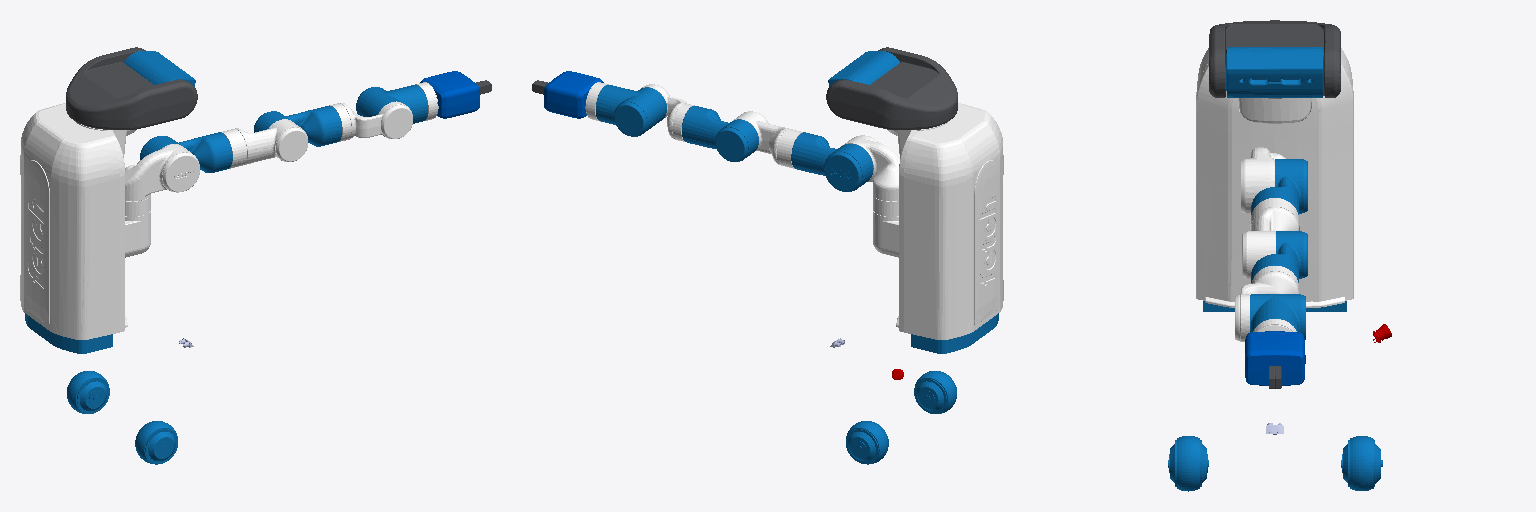
--- Render facts (derived) ---
3 views of the same robot in one strip: view 1: azimuth 30°, elevation 25°; view 2: azimuth 150°, elevation 25°; view 3: azimuth 270°, elevation 25° (orthographic).
Model fetch with 26 links and 25 joints (9 revolute, 2 continuous, 3 prismatic, 11 fixed), rooted at base_link, posed all joints at 0.
Links seen in each view (by area): view 1: torso_lift_link, head_pan_link, shoulder_pan_link, upperarm_roll_link, forearm_roll_link, elbow_flex_link, gripper_link, shoulder_lift_link, wrist_flex_link, r_wheel_link, l_wheel_link, head_tilt_link (+1 smaller); view 2: torso_lift_link, head_pan_link, shoulder_lift_link, elbow_flex_link, wrist_flex_link, shoulder_pan_link, gripper_link, upperarm_roll_link, l_wheel_link, r_wheel_link, head_tilt_link, torso_fixed_link (+1 smaller); view 3: torso_lift_link, head_tilt_link, head_pan_link, gripper_link, upperarm_roll_link, forearm_roll_link, l_wheel_link, r_wheel_link, shoulder_lift_link, wrist_flex_link, elbow_flex_link, shoulder_pan_link.
Link boxes in pixels (bbox=[...]): torso_lift_link: bbox=[20, 103, 150, 339]; head_pan_link: bbox=[66, 47, 197, 129]; shoulder_pan_link: bbox=[125, 144, 199, 216]; upperarm_roll_link: bbox=[221, 119, 307, 168]; forearm_roll_link: bbox=[329, 101, 412, 141]; elbow_flex_link: bbox=[254, 106, 341, 146]; gripper_link: bbox=[420, 71, 479, 118]; shoulder_lift_link: bbox=[140, 132, 232, 172]; wrist_flex_link: bbox=[356, 85, 427, 123]; r_wheel_link: bbox=[135, 421, 177, 464]; l_wheel_link: bbox=[67, 371, 109, 413]; head_tilt_link: bbox=[124, 51, 195, 86]; torso_lift_link: bbox=[873, 103, 1003, 339]; head_pan_link: bbox=[826, 47, 957, 129]; shoulder_lift_link: bbox=[791, 132, 873, 191]; elbow_flex_link: bbox=[682, 106, 758, 161]; wrist_flex_link: bbox=[596, 85, 666, 136]; shoulder_pan_link: bbox=[842, 135, 899, 216]; gripper_link: bbox=[544, 71, 603, 118]; upperarm_roll_link: bbox=[733, 111, 802, 168]; l_wheel_link: bbox=[846, 421, 888, 464]; r_wheel_link: bbox=[914, 371, 956, 413]; head_tilt_link: bbox=[828, 51, 899, 86]; torso_fixed_link: bbox=[911, 313, 998, 353]; torso_lift_link: bbox=[1196, 48, 1353, 307]; head_tilt_link: bbox=[1226, 47, 1323, 97]; head_pan_link: bbox=[1209, 20, 1340, 97]; gripper_link: bbox=[1245, 331, 1305, 385]; upperarm_roll_link: bbox=[1242, 198, 1298, 278]; forearm_roll_link: bbox=[1235, 266, 1298, 341]; l_wheel_link: bbox=[1341, 436, 1382, 490]; r_wheel_link: bbox=[1168, 436, 1208, 491]; shoulder_lift_link: bbox=[1251, 159, 1307, 214]; wrist_flex_link: bbox=[1250, 294, 1305, 339]; elbow_flex_link: bbox=[1251, 231, 1307, 282]; shoulder_pan_link: bbox=[1241, 147, 1285, 213].
Bounding box of the posed robot: 1.43 × 0.4855 × 1.1 m (x, y, z).
Meshes: 19 distinct files referenced, 18 mesh visuals loaded (18 OBJ); not drawn: 2 (reference not matched to a file when rendering).

robot.urdf — fetch:
<robot name="fetch">
  <link name="base_link">
    <inertial>
      <origin rpy="0 0 0" xyz="-0.0036 0.0 0.0014" />
      <mass value="70.1294" />
      <inertia ixx="1.225" ixy="0.0099" ixz="0.0062" iyy="1.2853" iyz="-0.0034" izz="0.987" />
    </inertial>
    <visual>
      <origin rpy="0 0 0" xyz="0 0 0" />
      <geometry>
        <mesh filename="meshes/base_link.obj" />
      </geometry>
      <material name="">
        <color rgba="0.356 0.361 0.376 1" />
      </material>
    </visual>
    <collision>
      <origin rpy="0 0 0" xyz="0 0 0.03" />
      <geometry>
        <mesh filename="meshes/base_link_collision.STL" />
      </geometry>
    </collision>

    <contact>
      <lateral_friction value="0.0"/>
      <rolling_friction value="0.0"/>
       <stiffness value="300000"/>
      <damping value="30000"/>
    </contact>
  </link>

  <link name="caster_wheel_link">
    <inertial>
      <origin rpy="0 0 0" xyz="-0.0036 0.0 0.0014" />
      <mass value="0" />
      <inertia ixx="0" ixy="0" ixz="0" iyy="0" iyz="0" izz="0" />
    </inertial>
    <visual>
      <origin rpy="0 0 0" xyz="0 0 0" />
      <geometry>
        <mesh filename="meshes/base_link.obj" />
      </geometry>
      <material name="">
        <color rgba="0.356 0.361 0.376 1" />
      </material>
    </visual>
    <collision>
      <origin rpy="0 0 0" xyz="0 0 0" />
      <geometry>
        <mesh filename="meshes/base_link_collision.STL" scale="0.99 0.99 1"/>
      </geometry>
    </collision>
    <contact>
      <lateral_friction value="0.0"/>
      <rolling_friction value="0.0"/>
       <stiffness value="300000"/>
      <damping value="30000"/>
    </contact>
  </link>

   <joint name="caster_wheel_joint" type="fixed">
    <origin rpy="0 0 0" xyz="0 0 0" />
    <parent link="base_link" />
    <child link="caster_wheel_link" />
   </joint>

  <link name="r_wheel_link">
    <inertial>
      <origin rpy="0 0 0" xyz="0 0 0" />
      <mass value="4.3542" />
      <inertia ixx="0.0045" ixy="0" ixz="0" iyy="0.005" iyz="0" izz="0.0045" />
    </inertial>
    <visual>
      <origin rpy="0 0 0" xyz="0 0 0" />
      <geometry>
        <mesh filename="meshes/r_wheel_link.obj" />
      </geometry>
      <material name="">
        <color rgba="0.086 0.506 0.767 1" />
      </material>
    </visual>
    <collision>
      <origin rpy="0 0 0" xyz="0 0 0" />
      <geometry>
        <mesh filename="meshes/r_wheel_link_collision.STL" />
      </geometry>
    </collision>
     <contact>
      <lateral_friction value="1.0"/>
      <rolling_friction value="0.0"/>
       <stiffness value="300000"/>
      <damping value="30000"/>
    </contact>
  </link>
  <joint name="r_wheel_joint" type="continuous">
    <origin rpy="-6.123E-17 0 0" xyz="0.0012914 -0.18738 0.055325" />
    <parent link="base_link" />
    <child link="r_wheel_link" />
    <axis xyz="0 1 0" />
  <limit effort="8.85" velocity="17.4" /></joint>
  <link name="l_wheel_link">
    <inertial>
      <origin rpy="0 0 0" xyz="0 0 0" />
      <mass value="4.3542" />
      <inertia ixx="0.0045" ixy="0" ixz="0" iyy="0.005" iyz="0" izz="0.0045" />
    </inertial>
    <visual>
      <origin rpy="0 0 0" xyz="0 0 0" />
      <geometry>
        <mesh filename="meshes/l_wheel_link.obj" />
      </geometry>
      <material name="">
        <color rgba="0.086 0.506 0.767 1" />
      </material>
    </visual>
    <collision>
      <origin rpy="0 0 0" xyz="0 0 0" />
      <geometry>
        <mesh filename="meshes/l_wheel_link_collision.STL" />
      </geometry>
    </collision>
     <contact>
      <lateral_friction value="1.0"/>
      <rolling_friction value="0.0"/>
       <stiffness value="300000"/>
      <damping value="30000"/>
    </contact>

  </link>
  <joint name="l_wheel_joint" type="continuous">
    <origin rpy="-6.123E-17 0 0" xyz="0.0012914 0.18738 0.055325" />
    <parent link="base_link" />
    <child link="l_wheel_link" />
    <axis xyz="0 1 0" />
  <limit effort="8.85" velocity="17.4" /></joint>
  <link name="torso_lift_link">
    <inertial>
      <origin rpy="0 0 0" xyz="-0.0013 -0.0009 0.2935" />
      <mass value="10.7796" />
      <inertia ixx="0.3354" ixy="0.0" ixz="-0.0162" iyy="0.3354" iyz="-0.0006" izz="0.0954" />
    </inertial>
    <visual>
      <origin rpy="0 0 0" xyz="0 0 0" />
      <geometry>
        <mesh filename="meshes/torso_lift_link.obj" />
      </geometry>
      <material name="">
        <color rgba="1 1 1 1" />
      </material>
    </visual>
    <collision>
      <origin rpy="0 0 0" xyz="0 0 0" />
      <geometry>
        <mesh filename="meshes/torso_lift_link_collision.STL" />
      </geometry>
    </collision>
  </link>
  <joint name="torso_lift_joint" type="prismatic">
    <origin rpy="-6.123E-17 0 0" xyz="-0.086875 0 0.37743" />
    <parent link="base_link" />
    <child link="torso_lift_link" />
    <axis xyz="0 0 1" />
    <limit effort="450.0" lower="0" upper="0.38615" velocity="0.1" />
  <dynamics damping="100.0" />
  </joint>
  
  <link name="head_pan_link">
    <inertial>
      <origin rpy="0 0 0" xyz="0.0321 0.0161 0.0390" />
      <mass value="2.2556" />
      <inertia ixx="0.0129" ixy="0.0002" ixz="0.0007" iyy="0.0095" iyz="-0.0" izz="0.0184" />
    </inertial>
    <visual>
      <origin rpy="0 0 0" xyz="0 0 0" />
      <geometry>
        <mesh filename="meshes/head_pan_link.obj" />
      </geometry>
      <material name="">
        <color rgba="0.356 0.361 0.376 1" />
      </material>
    </visual>
    <collision>
      <origin rpy="0 0 0" xyz="0 0 0" />
      <geometry>
        <mesh filename="meshes/head_pan_link_collision.STL" />
      </geometry>
    </collision>
  </link>
  <joint name="head_pan_joint" type="revolute">
    <origin rpy="0 0 0" xyz="0.053125 0 0.603001417713939" />
    <parent link="torso_lift_link" />
    <child link="head_pan_link" />
    <axis xyz="0 0 1" />
  <limit effort="0.32" lower="-1.57" upper="1.57" velocity="1.57" /></joint>
  <link name="head_tilt_link">
    <inertial>
      <origin rpy="0 0 0" xyz="0.0081 0.0025 0.0113" />
      <mass value="0.9087" />
      <inertia ixx="0.0061" ixy="-0.0" ixz="0.0002" iyy="0.0014" iyz="-0.0001" izz="0.0061" />
    </inertial>
    <visual>
      <origin rpy="0 0 0" xyz="0 0 0" />
      <geometry>
        <mesh filename="meshes/head_tilt_link.obj" />
      </geometry>
      <material name="">
        <color rgba="0.086 0.506 0.767 1" />
      </material>
    </visual>
    <collision>
      <origin rpy="0 0 0" xyz="0 0 0" />
      <geometry>
        <mesh filename="meshes/head_tilt_link_collision.STL" />
      </geometry>
    </collision>
  </link>
  <joint name="head_tilt_joint" type="revolute">
    <origin rpy="0 0.2617993877991494 0" xyz="0.14253 0 0.057999" />
    <parent link="head_pan_link" />
    <child link="head_tilt_link" />
    <axis xyz="0 1 0" />
    <limit effort="0.68" lower="-0.76" upper="1.45" velocity="1.57" />
  </joint>
  <link name="shoulder_pan_link">
    <inertial>
      <origin rpy="0 0 0" xyz="0.0927 -0.0056 0.0564" />
      <mass value="2.5587" />
      <inertia ixx="0.0043" ixy="-0.0001" ixz="0.001" iyy="0.0087" iyz="-0.0001" izz="0.0087" />
    </inertial>
    <visual>
      <origin rpy="0 0 0" xyz="0 0 0" />
      <geometry>
        <mesh filename="meshes/shoulder_pan_link.obj" />
      </geometry>
      <material name="">
        <color rgba="1 1 1 1" />
      </material>
    </visual>
    <collision>
      <origin rpy="0 0 0" xyz="0 0 0" />
      <geometry>
        <mesh filename="meshes/shoulder_pan_link_collision.STL" />
      </geometry>
    </collision>
  </link>
  <joint name="shoulder_pan_joint" type="revolute">
    <origin rpy="0 0 0" xyz="0.119525 0 0.34858" />
    <parent link="torso_lift_link" />
    <child link="shoulder_pan_link" />
    <axis xyz="0 0 1" />
    <dynamics damping="1.0" />
    <limit effort="33.82" lower="-1.6056" upper="1.6056" velocity="1.256" />
  </joint>
  <link name="shoulder_lift_link">
    <inertial>
      <origin rpy="0 0 0" xyz="0.1432 0.0072 -0.0001" />
      <mass value="2.6615" />
      <inertia ixx="0.0028" ixy="-0.0021" ixz="-0.0" iyy="0.0111" iyz="-0.0" izz="0.0112" />
    </inertial>
    <visual>
      <origin rpy="0 0 0" xyz="0 0 0" />
      <geometry>
        <mesh filename="meshes/shoulder_lift_link.obj" />
      </geometry>
      <material name="">
        <color rgba="0.086 0.506 0.767 1" />
      </material>
    </visual>
    <collision>
      <origin rpy="0 0 0" xyz="0 0 0" />
      <geometry>
        <mesh filename="meshes/shoulder_lift_link_collision.STL" />
      </geometry>
    </collision>
  </link>
  <joint name="shoulder_lift_joint" type="revolute">
    <origin rpy="0 0 0" xyz="0.117 0 0.0599999999999999" />
    <parent link="shoulder_pan_link" />
    <child link="shoulder_lift_link" />
    <axis xyz="0 1 0" />
    <dynamics damping="1.0" />
    <limit effort="131.76" lower="-1.221" upper="1.518" velocity="1.454" />
  </joint>
  <link name="upperarm_roll_link">
    <inertial>
      <origin rpy="0 0 0" xyz="0.1165 0.0014 0.0000" />
      <mass value="2.3311" />
      <inertia ixx="0.0019" ixy="-0.0001" ixz="0.0" iyy="0.0045" iyz="0.0" izz="0.0047" />
    </inertial>
    <visual>
      <origin rpy="0 0 0" xyz="0 0 0" />
      <geometry>
        <mesh filename="meshes/upperarm_roll_link.obj" />
      </geometry>
      <material name="">
        <color rgba="1 1 1 1" />
      </material>
    </visual>
    <collision>
      <origin rpy="0 0 0" xyz="0 0 0" />
      <geometry>
        <mesh filename="meshes/upperarm_roll_link_collision.STL" />
      </geometry>
    </collision>
  </link>
  <joint name="upperarm_roll_joint" type="revolute">
    <origin rpy="0 0 0" xyz="0.219 0 0" />
    <parent link="shoulder_lift_link" />
    <child link="upperarm_roll_link" />
    <axis xyz="1 0 0" />
    <dynamics damping="5.0" />
    <limit effort="76.94" velocity="1.571" />
  </joint>
  <link name="elbow_flex_link">
    <inertial>
      <origin rpy="0 0 0" xyz="0.1279 0.0073 0.0000" />
      <mass value="2.1299" />
      <inertia ixx="0.0024" ixy="-0.0016" ixz="0.0" iyy="0.0082" iyz="-0.0" izz="0.0084" />
    </inertial>
    <visual>
      <origin rpy="0 0 0" xyz="0 0 0" />
      <geometry>
        <mesh filename="meshes/elbow_flex_link.obj" />
      </geometry>
      <material name="">
        <color rgba="0.086 0.506 0.767 1" />
      </material>
    </visual>
    <collision>
      <origin rpy="0 0 0" xyz="0 0 0" />
      <geometry>
        <mesh filename="meshes/elbow_flex_link_collision.STL" />
      </geometry>
    </collision>
  </link>
  <joint name="elbow_flex_joint" type="revolute">
    <origin rpy="0 0 0" xyz="0.133 0 0" />
    <parent link="upperarm_roll_link" />
    <child link="elbow_flex_link" />
    <axis xyz="0 1 0" />
    <dynamics damping="1.0" />
    <limit effort="66.18" lower="-2.251" upper="2.251" velocity="1.521" />
  </joint>
  <link name="forearm_roll_link">
    <inertial>
      <origin rpy="0 0 0" xyz="0.1097 -0.0266 0.0000" />
      <mass value="1.6563" />
      <inertia ixx="0.0016" ixy="-0.0003" ixz="0.0" iyy="0.003" iyz="-0.0" izz="0.0035" />
    </inertial>
    <visual>
      <origin rpy="0 0 0" xyz="0 0 0" />
      <geometry>
        <mesh filename="meshes/forearm_roll_link.obj" />
      </geometry>
      <material name="">
        <color rgba="1 1 1 1" />
      </material>
    </visual>
    <collision>
      <origin rpy="0 0 0" xyz="0 0 0" />
      <geometry>
        <mesh filename="meshes/forearm_roll_link_collision.STL" />
      </geometry>
    </collision>
  </link>
  <joint name="forearm_roll_joint" type="revolute">
    <origin rpy="0 0 0" xyz="0.197 0 0" />
    <parent link="elbow_flex_link" />
    <child link="forearm_roll_link" />
    <axis xyz="1 0 0" />
    <dynamics damping="5.0" />
    <limit effort="29.35" velocity="1.571" />
  </joint>
  <link name="wrist_flex_link">
    <inertial>
      <origin rpy="0 0 0" xyz="0.0882 0.0009 -0.0001" />
      <mass value="1.725" />
      <inertia ixx="0.0018" ixy="-0.0001" ixz="-0.0" iyy="0.0042" iyz="0.0" izz="0.0042" />
    </inertial>
    <visual>
      <origin rpy="0 0 0" xyz="0 0 0" />
      <geometry>
        <mesh filename="meshes/wrist_flex_link.obj" />
      </geometry>
      <material name="">
        <color rgba="0.086 0.506 0.767 1" />
      </material>
    </visual>
    <collision>
      <origin rpy="0 0 0" xyz="0 0 0" />
      <geometry>
        <mesh filename="meshes/wrist_flex_link_collision.STL" />
      </geometry>
    </collision>
  </link>
  <joint name="wrist_flex_joint" type="revolute">
    <origin rpy="0 0 0" xyz="0.1245 0 0" />
    <parent link="forearm_roll_link" />
    <child link="wrist_flex_link" />
    <axis xyz="0 1 0" />
    <dynamics damping="1.0" />
    <limit effort="25.7" lower="-2.16" upper="2.16" velocity="2.268" />
  </joint>
  <link name="wrist_roll_link">
    <inertial>
      <origin rpy="0 0 0" xyz="0.0095 0.0004 -0.0002" />
      <mass value="0.1354" />
      <inertia ixx="0.0001" ixy="0.0" ixz="0.0" iyy="0.0001" iyz="0.0" izz="0.0001" />
    </inertial>
    <visual>
      <origin rpy="0 0 0" xyz="0 0 0" />
      <geometry>
        <mesh filename="meshes/wrist_roll_link.obj" />
      </geometry>
      <material name="">
        <color rgba="1 1 1 1" />
      </material>
    </visual>
    <collision>
      <origin rpy="0 0 0" xyz="0 0 0" />
      <geometry>
        <mesh filename="meshes/wrist_roll_link_collision.STL" />
      </geometry>
    </collision>
  </link>
  <joint name="wrist_roll_joint" type="revolute">
    <origin rpy="0 0 0" xyz="0.1385 0 0" />
    <parent link="wrist_flex_link" />
    <child link="wrist_roll_link" />
    <axis xyz="1 0 0" />
    <limit effort="7.36" velocity="2.268" />
    <dynamics damping="5.0" />
  </joint>
  <link name="gripper_link">
    <inertial>
      <origin rpy="0 0 0" xyz="-0.0900 -0.0001 -0.0017" />
      <mass value="1.5175" />
      <inertia ixx="0.0013" ixy="-0.0" ixz="0.0" iyy="0.0019" iyz="-0.0" izz="0.0024" />
    </inertial>
    <visual>
      <origin rpy="0 0 0" xyz="0 0 0" />
      <geometry>
        <mesh filename="meshes/gripper_link.obj" />
      </geometry>
      <material name="">
        <color rgba="0 0.4 0.8 1" />
      </material>
    </visual>
    <collision>
      <origin rpy="0 0 0" xyz="0 0 0" />
      <geometry>
        <mesh filename="meshes/gripper_link.obj" />
      </geometry>
    </collision>
  </link>
  <joint name="gripper_axis" type="fixed">
    <origin rpy="0 0 0" xyz="0.16645 0 0" />
    <parent link="wrist_roll_link" />
    <child link="gripper_link" />
    <axis xyz="0 1 0" />
  </joint>
  <link name="r_gripper_finger_link">
    <inertial>
      <origin rpy="0 0 0" xyz="-0.01 0 0" />
      <mass value="0.0798" />
      <inertia ixx="0.002" ixy="0" ixz="0" iyy="0" iyz="0" izz="0" />
    </inertial>
    <visual>
      <origin rpy="0 0 0" xyz="0 0.101425 0" />
      <geometry>
        <mesh filename="meshes/r_gripper_finger_link.obj" />
      </geometry>
      <material name="">
        <color rgba="0.356 0.361 0.376 1" />
      </material>
    </visual>
    <collision>
      <origin rpy="0 0 0" xyz="0 0.101425 0" />
      <geometry>
        <mesh filename="meshes/r_gripper_finger_link.obj" />
      </geometry>
    </collision>
  </link>
  <joint name="r_gripper_finger_joint" type="prismatic">
    <origin rpy="0 0 0" xyz="0 0.015425 0" />
    <parent link="gripper_link" />
    <child link="r_gripper_finger_link" />
    <axis xyz="0 1 0" />
  <limit effort="60" lower="0.0" upper="0.05" velocity="0.05" /><dynamics damping="100.0" /></joint>
  <link name="l_gripper_finger_link">
    <inertial>
      <origin rpy="0 0 0" xyz="-0.01 0 0" />
      <mass value="0.0798" />
      <inertia ixx="0.002" ixy="0" ixz="0" iyy="0" iyz="0" izz="0" />
    </inertial>
    <visual>
      <origin rpy="0 0 0" xyz="0 -0.101425 0" />
      <geometry>
        <mesh filename="meshes/l_gripper_finger_link.obj" />
      </geometry>
      <material name="">
        <color rgba="0.356 0.361 0.376 1" />
      </material>
    </visual>
    <collision>
      <origin rpy="0 0 0" xyz="0 -0.101425 0" />
      <geometry>
        <mesh filename="meshes/l_gripper_finger_link.obj" />
      </geometry>
    </collision>
  </link>
  <joint name="l_gripper_finger_joint" type="prismatic">
    <origin rpy="0 0 0" xyz="0 -0.015425 0" />
    <parent link="gripper_link" />
    <child link="l_gripper_finger_link" />
    <axis xyz="0 -1 0" />
  <limit effort="60" lower="0.0" upper="0.05" velocity="0.05" /><dynamics damping="100.0" /></joint>
  <!--
  <link name="bellows_link">
    <inertial>
      <origin rpy="0 0 0" xyz="0.0191320000286228 -1.67219873481315E-16 -0.134861625443387" />
      <mass value="0.169374038216602" />
      <inertia ixx="0.00331159128762117" ixy="-8.9230964321455E-18" ixz="-5.38622201018293E-08" iyy="0.00174447292786627" iyz="-8.06964979976371E-17" izz="0.00169417568121457" />
    </inertial>
    <visual>
      <origin rpy="0 0 0" xyz="0 0 0" />
      <geometry>
        <mesh filename="meshes/bellows_link.obj" />
      </geometry>
      <material name="">
        <color rgba="0 0.4 0.8 1" />
      </material>
    </visual>
    <collision>
      <origin rpy="0 0 0" xyz="0 0 0" />
      <geometry>
        <mesh filename="meshes/bellows_link_collision.STL" />
      </geometry>
    </collision>
  </link>
  <joint name="bellows_joint" type="fixed">
    <origin rpy="0 0 0" xyz="0 0 0" />
    <parent link="torso_lift_link" />
    <child link="bellows_link" />
    <axis xyz="0 0 -1" />
  <limit effort="5.0" lower="0" upper="0.4" velocity="0.1" /></joint>
  <link name="bellows_link2">
    <inertial>
      <origin rpy="0 0 0" xyz="0.0191320000286228 -1.67219873481315E-16 -0.134861625443387" />
      <mass value="0.169374038216602" />
      <inertia ixx="0.00331159128762117" ixy="-8.9230964321455E-18" ixz="-5.38622201018293E-08" iyy="0.00174447292786627" iyz="-8.06964979976371E-17" izz="0.00169417568121457" />
    </inertial>
    <visual>
      <origin rpy="0 0 0" xyz="0 0 0" />
      <geometry>
        <mesh filename="meshes/bellows_link.obj" />
      </geometry>
      <material name="">
        <color rgba="0 0.4 0.8 1" />
      </material>
    </visual>
    <collision>
      <origin rpy="0 0 0" xyz="0 0 0" />
      <geometry>
        <mesh filename="meshes/bellows_link_collision.STL" />
      </geometry>
    </collision>
  </link>
  <joint name="bellows_joint2" type="fixed">
    <origin rpy="0 0 0" xyz="0 0 0" />
    <parent link="torso_lift_link" />
    <child link="bellows_link2" />
  </joint>
  -->
  <link name="estop_link">
    <inertial>
      <origin rpy="0 0 0" xyz="0.002434512737072 -0.00330608315239905 0.00665139196650039" />
      <mass value="0.00196130439134723" />
      <inertia ixx="3.02810026604417E-07" ixy="-1.5862023118056E-08" ixz="3.16561396557437E-08" iyy="2.93322917127605E-07" iyz="-4.28833522751273E-08" izz="2.28513272627183E-07" />
    </inertial>
    <visual>
      <origin rpy="0 0 0" xyz="0 0 0" />
      <geometry>
        <mesh filename="meshes/estop_link.obj" />
      </geometry>
      <material name="">
        <color rgba="0.8 0 0 1" />
      </material>
    </visual>
    <collision>
      <origin rpy="0 0 0" xyz="0 0 0" />
      <geometry>
        <mesh filename="meshes/estop_link.obj" />
      </geometry>
    </collision>
  </link>
  <joint name="estop_joint" type="fixed">
    <origin rpy="1.5708 0 0" xyz="-0.12465 0.23892 0.31127" />
    <parent link="base_link" />
    <child link="estop_link" />
    <axis xyz="0 0 0" />
  </joint>
  <link name="laser_link">
    <inertial>
      <origin rpy="0 0 0" xyz="-0.0306228970175641 0.0007091682908278 0.0551974119471302" />
      <mass value="0.00833634573995571" />
      <inertia ixx="1.01866461240801E-06" ixy="-5.88447626567756E-08" ixz="7.83857244757914E-08" iyy="5.10039589974707E-07" iyz="-7.12664289617235E-09" izz="1.28270671527309E-06" />
    </inertial>
    <visual>
      <origin rpy="0 0 0" xyz="0 0 0" />
      <geometry>
        <mesh filename="meshes/laser_link.obj" />
      </geometry>
      <material name="">
        <color rgba="0.792156862745098 0.819607843137255 0.933333333333333 1" />
      </material>
    </visual>
    <collision>
      <origin rpy="0 0 0" xyz="0 0 0" />
      <geometry>
        <mesh filename="meshes/laser_link.obj" />
      </geometry>
    </collision>
  </link>
  <joint name="laser_joint" type="fixed">
    <origin rpy="3.14159265359 0 0" xyz="0.235 0 0.2878" />
    <parent link="base_link" />
    <child link="laser_link" />
    <axis xyz="0 0 0" />
  </joint>
  <link name="torso_fixed_link">
    <inertial>
      <origin rpy="0 0 0" xyz="-0.0722 0.0057 0.2656" />
      <mass value="13.2775" />
      <inertia ixx="0.3861" ixy="0.0015" ixz="-0.0102" iyy="0.3388" iyz="0.0117" izz="0.1018" />
    </inertial>
    <visual>
      <origin rpy="0 0 0" xyz="0 0 0" />
      <geometry>
        <mesh filename="meshes/torso_fixed_link.obj" />
      </geometry>
      <material name="">
        <color rgba="0.086 0.506 0.767 1" />
      </material>
    </visual>
    <collision>
      <origin rpy="0 0 0" xyz="0 0 0" />
      <geometry>
        <mesh filename="meshes/torso_fixed_link.obj" />
      </geometry>
    </collision>
  </link>
  <joint name="torso_fixed_joint" type="fixed">
    <origin rpy="-6.12303176911189E-17 0 0" xyz="-0.086875 0 0.377425" />
    <parent link="base_link" />
    <child link="torso_fixed_link" />
    <axis xyz="0 1 0" />
  </joint>
  <link name="head_camera_link">
     <inertial>
      <mass value="0.0001"/>
      <origin rpy="0 0 0" xyz="0 0 0"/>
      <inertia ixx="0.0000001" ixy="0.0" ixz="0.0" iyy="0.0000001" iyz="0.0" izz="0.0000001"/>
    </inertial>
  </link>
  <joint name="head_camera_joint" type="fixed">
    <origin rpy="0 0 0" xyz="0.055 0 0.0225" />
    <parent link="head_tilt_link" />
    <child link="head_camera_link" />
  </joint>
  <link name="head_camera_rgb_frame">
     <inertial>
      <mass value="0.0001"/>
      <origin rpy="0 0 0" xyz="0 0 0"/>
      <inertia ixx="0.0000001" ixy="0.0" ixz="0.0" iyy="0.0000001" iyz="0.0" izz="0.0000001"/>
    </inertial>
  </link>
  <joint name="head_camera_rgb_joint" type="fixed">
    <origin rpy="0 0 0" xyz="0 0.02 0" />
    <parent link="head_camera_link" />
    <child link="head_camera_rgb_frame" />
  </joint>
  <link name="head_camera_rgb_optical_frame">
     <inertial>
      <mass value="0.0001"/>
      <origin rpy="0 0 0" xyz="0 0 0"/>
      <inertia ixx="0.0000001" ixy="0.0" ixz="0.0" iyy="0.0000001" iyz="0.0" izz="0.0000001"/>
    </inertial>
  </link>
  <joint name="head_camera_rgb_optical_joint" type="fixed">
    <origin rpy="-1.57079632679 0 -1.57079632679" xyz="0 0 0" />
    <parent link="head_camera_rgb_frame" />
    <child link="head_camera_rgb_optical_frame" />
  </joint>
  <link name="head_camera_depth_frame">
     <inertial>
      <mass value="0.0001"/>
      <origin rpy="0 0 0" xyz="0 0 0"/>
      <inertia ixx="0.0000001" ixy="0.0" ixz="0.0" iyy="0.0000001" iyz="0.0" izz="0.0000001"/>
    </inertial>
  </link>
  <joint name="head_camera_depth_joint" type="fixed">
    <origin rpy="0 0 0" xyz="0 0.045 0" />
    <parent link="head_camera_link" />
    <child link="head_camera_depth_frame" />
  </joint>
  <link name="head_camera_depth_optical_frame">
     <inertial>
      <mass value="0.0001"/>
      <origin rpy="0 0 0" xyz="0 0 0"/>
      <inertia ixx="0.0000001" ixy="0.0" ixz="0.0" iyy="0.0000001" iyz="0.0" izz="0.0000001"/>
    </inertial>
  </link>
  <joint name="head_camera_depth_optical_joint" type="fixed">
    <origin rpy="-1.57079632679 0 -1.57079632679" xyz="0 0 0" />
    <parent link="head_camera_depth_frame" />
    <child link="head_camera_depth_optical_frame" />
  </joint>
  <link name="eyes">
    <inertial>
      <mass value="0.001"/>
      <origin xyz="0 0 0"/>
      <inertia ixx="0.0001" ixy="0.0" ixz="0.0" iyy="0.0001" iyz="0.0" izz="0.0001"/>
    </inertial>
  </link>
  <joint name="eye_joint" type="fixed">
   <origin rpy="0 0 0" xyz="0 0 0"/>
    <parent link="head_camera_link"/>
    <child link="eyes"/>
  </joint>

</robot>
